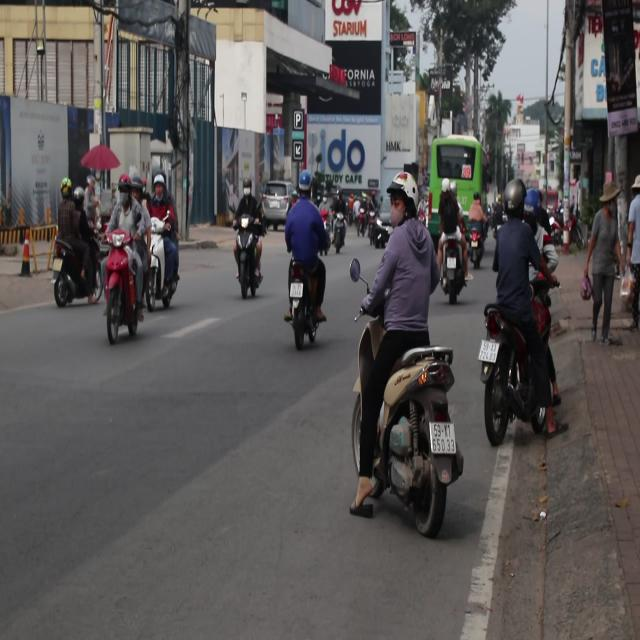bus: (429, 134, 487, 254)
car: (261, 181, 296, 229)
motorbike: (346, 313, 456, 522), (488, 305, 580, 471), (100, 203, 150, 343), (281, 260, 335, 360), (44, 227, 101, 316), (147, 217, 191, 332), (230, 221, 264, 299), (353, 186, 373, 229), (328, 216, 347, 256), (469, 224, 485, 269), (369, 221, 389, 249)
